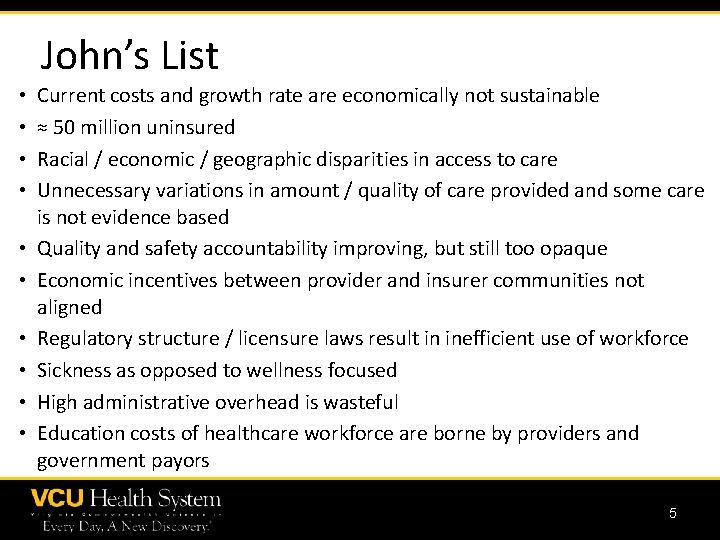paragraph: (13, 82, 712, 476)
subtitle: (19, 481, 235, 540)
title: (29, 23, 235, 79)
